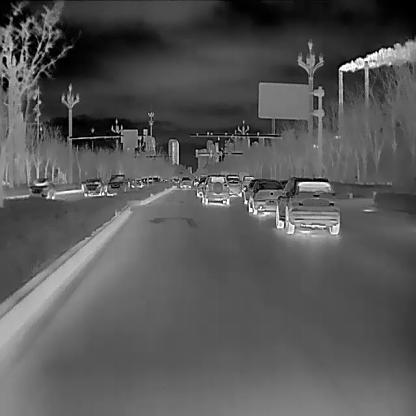car: (275, 175, 340, 234), (248, 176, 285, 214), (202, 172, 230, 204), (28, 178, 56, 201), (106, 172, 129, 196), (81, 176, 104, 196), (224, 172, 242, 196), (242, 176, 257, 204), (194, 176, 208, 197), (179, 175, 190, 187)
